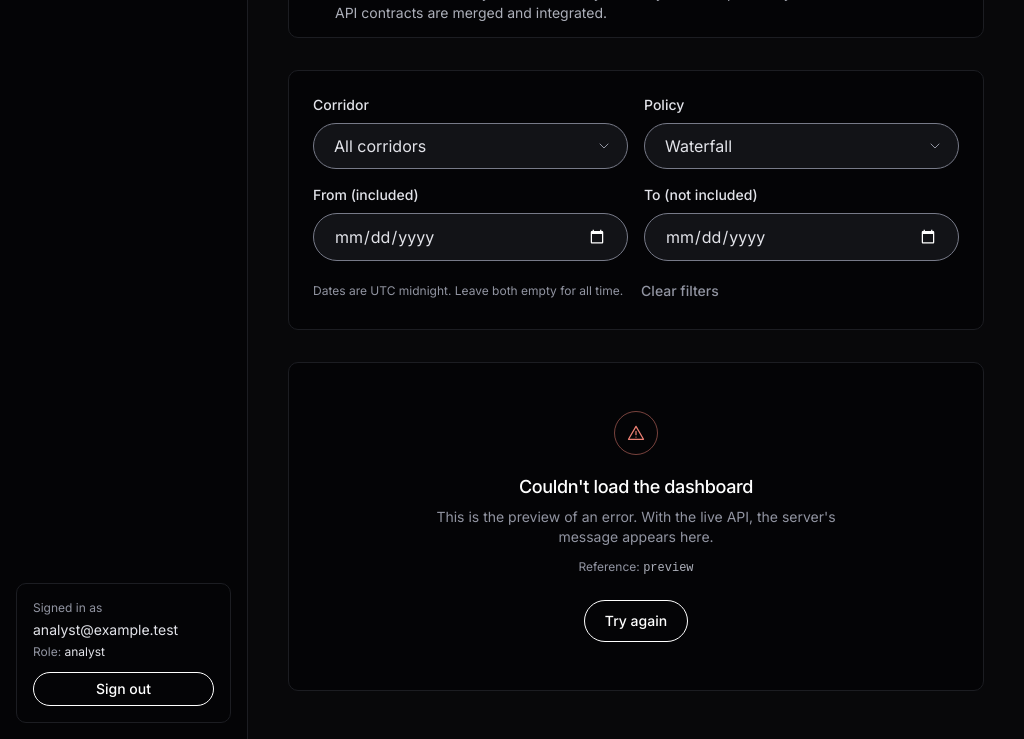
it: Dashboard states › shows the error state, keeps the filters, and recovers with Try again
(page scrolled)
Expected: the message shows "Couldn't load the dashboard", [519,476,753,497]
Expected: the dropdown labelled "Policy" shows "Waterfall", [644,123,959,169]
Click the button "Try again" at [636, 622], box [584,600,688,642]
(page scrolled)
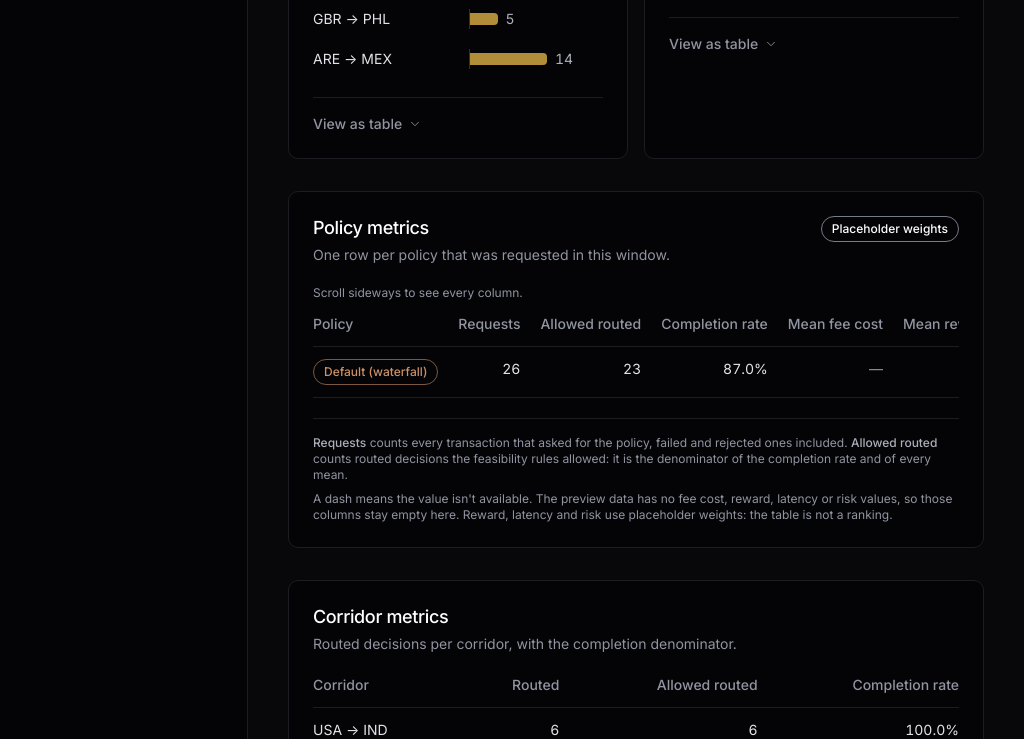
Now the message "Couldn't load the dashboard This is the preview of an error. With the live API," is gone
Now the table named "Metrics by policy" is shown, box [313,313,959,398]
